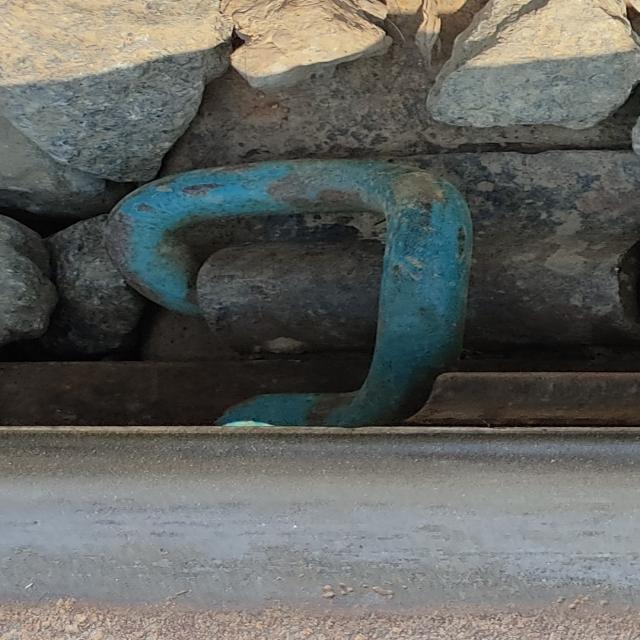track_bolt: (96, 148, 487, 429)
